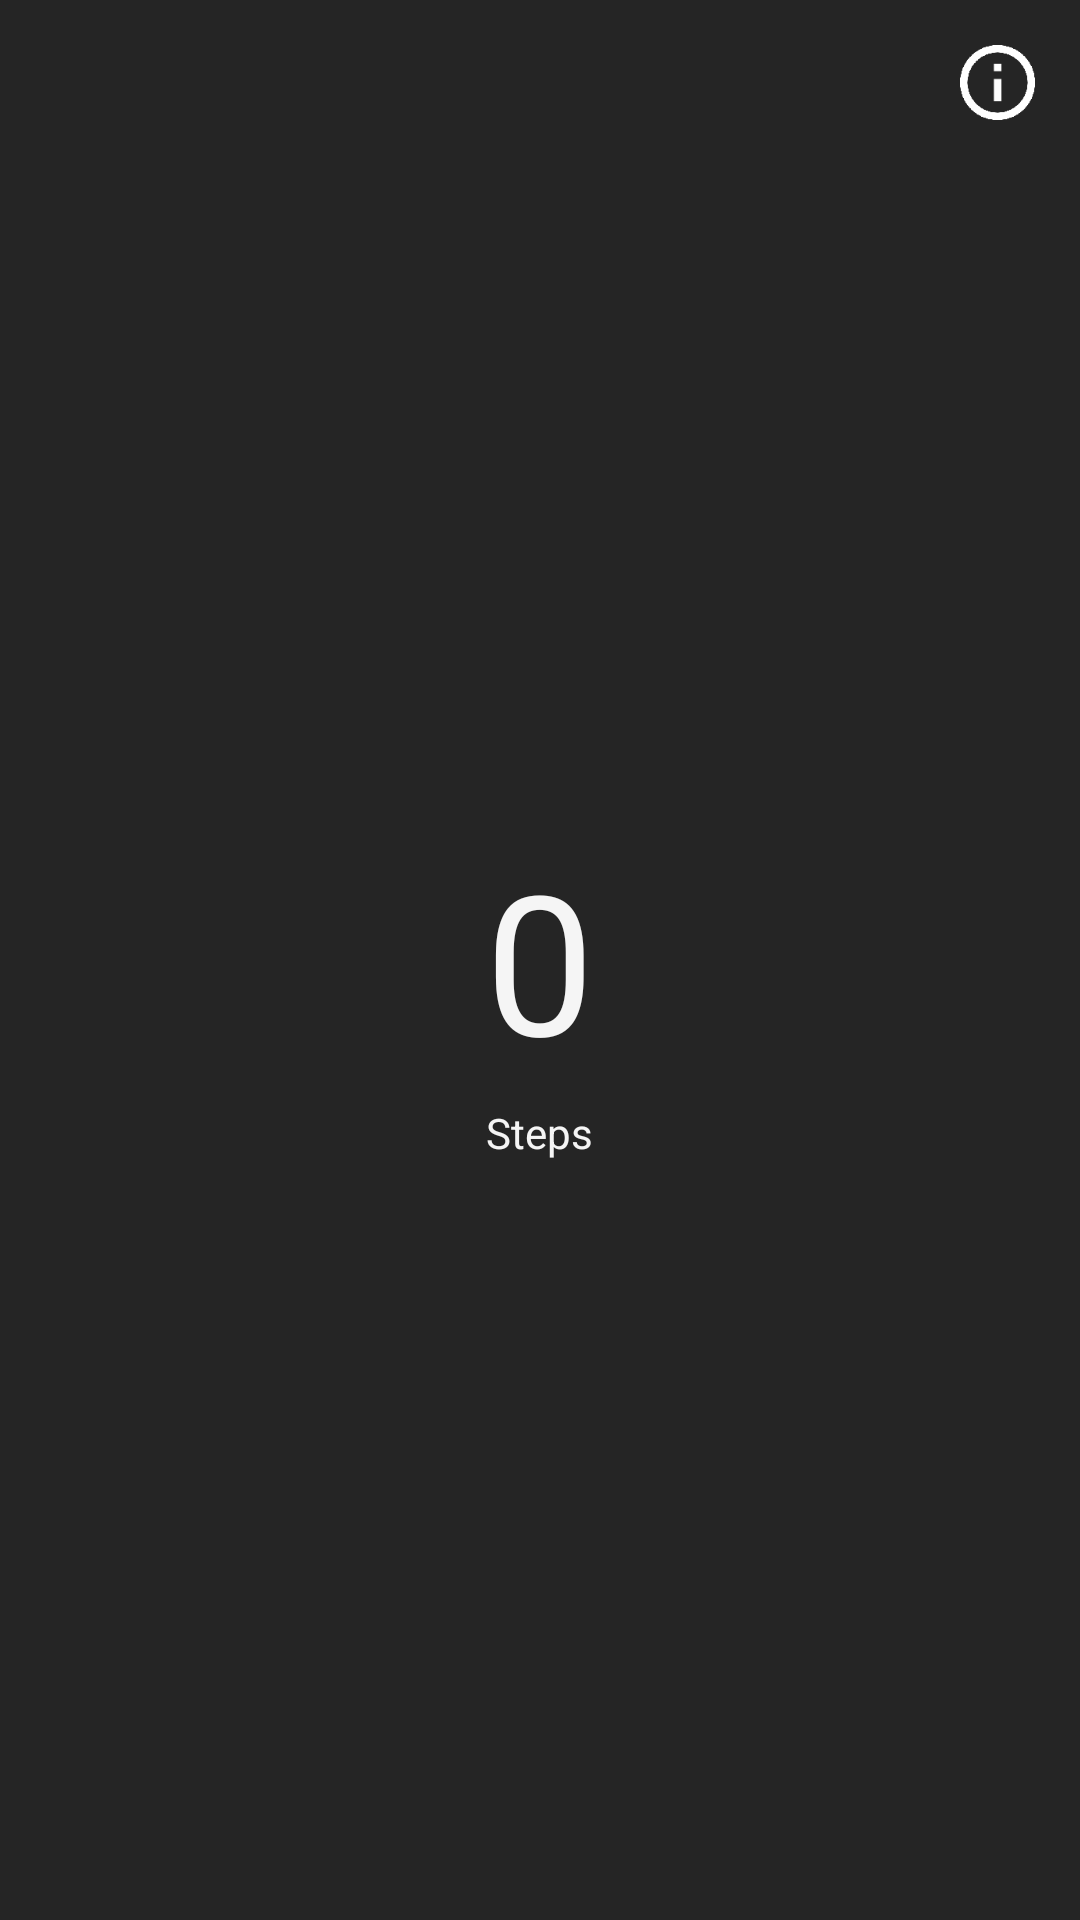

Named icons in this screenshot (1080 x 1920) and their bounding boxes, (x1, y1, x2, y2):
cmd information: (960, 45, 1035, 120)
